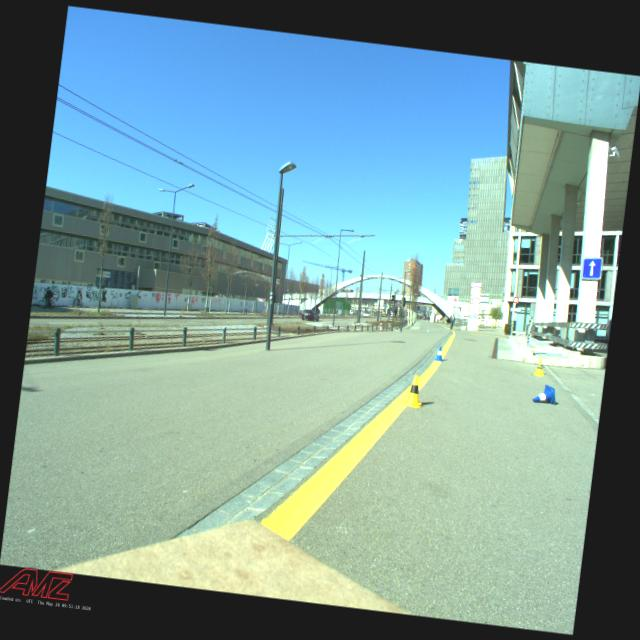blue_cone: (532, 383, 557, 405), (433, 346, 445, 362)
yellow_cone: (402, 374, 427, 408), (534, 359, 546, 376)
